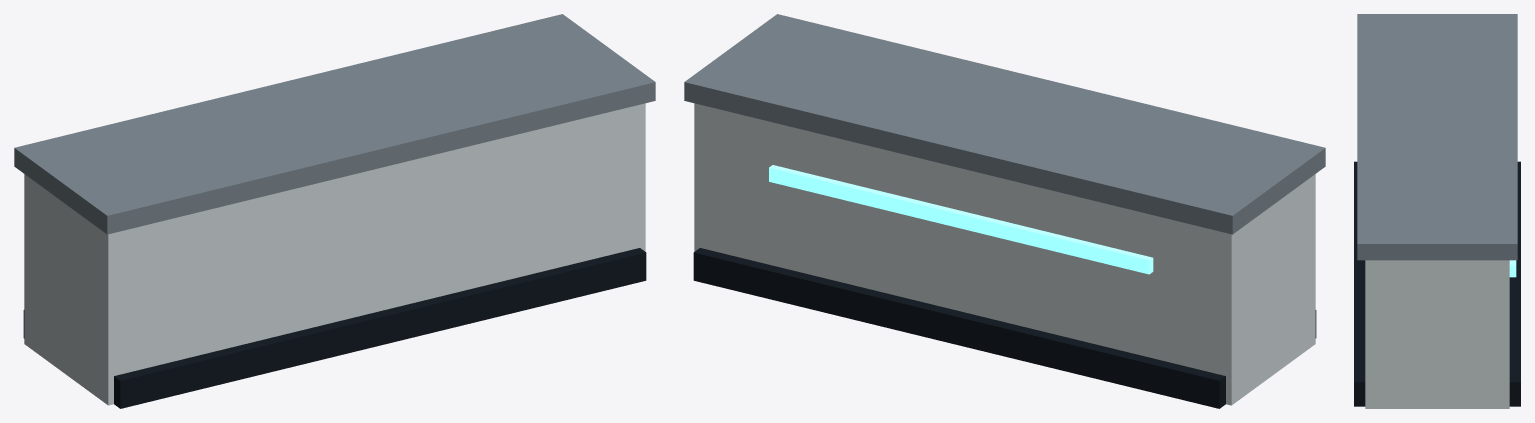
Rendered from np_z03_accueil_banque.glb.
The picture shows the model from 3 angles, left to right: view 1: azimuth 30°, elevation 25°; view 2: azimuth 150°, elevation 25°; view 3: azimuth 270°, elevation 25°; orthographic projection. The views are drawn at different scales.
Visible parts, largest first — view 1: Corps, Plan, Socle; view 2: Corps, Plan, Socle, Bandeau; view 3: Plan, Corps, Socle.
Boxes of the visible parts, bbox=[...] form: Corps: bbox=[24, 103, 645, 405]; Plan: bbox=[14, 14, 655, 234]; Socle: bbox=[23, 248, 646, 408]; Corps: bbox=[694, 103, 1315, 405]; Plan: bbox=[684, 14, 1325, 234]; Socle: bbox=[693, 248, 1316, 408]; Bandeau: bbox=[769, 165, 1153, 274]; Plan: bbox=[1357, 14, 1517, 260]; Corps: bbox=[1365, 260, 1509, 408]; Socle: bbox=[1354, 161, 1520, 406].
Size of the model in its own units: 2.45 by 0.83 by 0.75.
